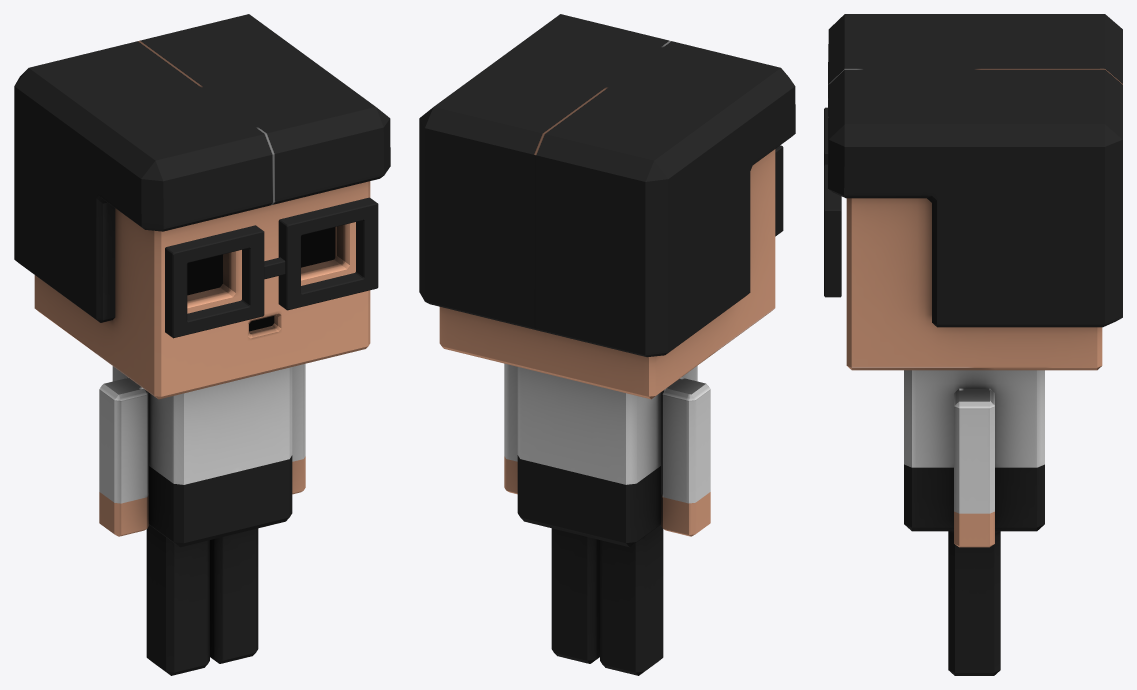
Rendered from MeganeBoy.FBX.
3 renders of one model, left to right at view 1: azimuth 30°, elevation 25°; view 2: azimuth 150°, elevation 25°; view 3: azimuth 270°, elevation 25°, orthographic. The views are drawn at different scales.
Visible parts, largest first — view 1: MeganeBoy; view 2: MeganeBoy; view 3: MeganeBoy.
Boxes of the visible parts, <box> form: MeganeBoy: <box>14,14,390,675</box>; MeganeBoy: <box>419,14,795,675</box>; MeganeBoy: <box>824,14,1122,675</box>.
Size of the model in its own units: 5.77 by 12.65 by 5.84.
Materials: 1 (1 with a texture image).
